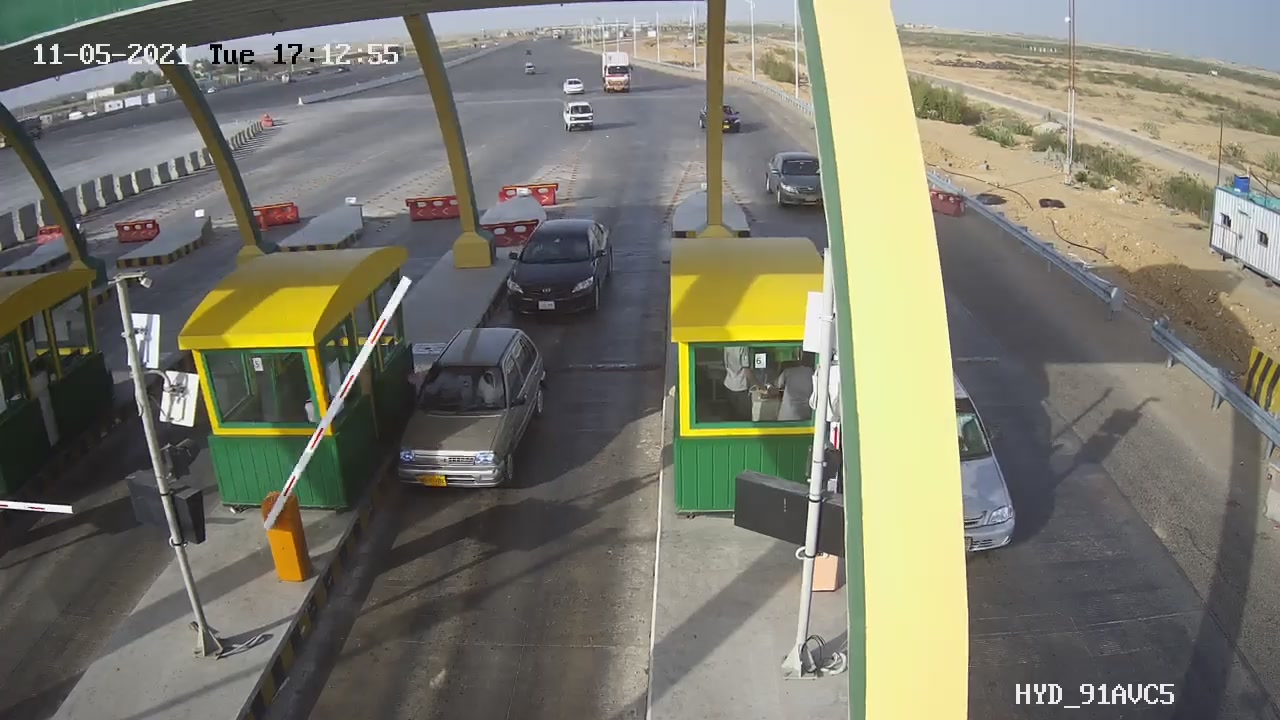F1: (381, 316, 577, 507), (494, 203, 631, 333)
